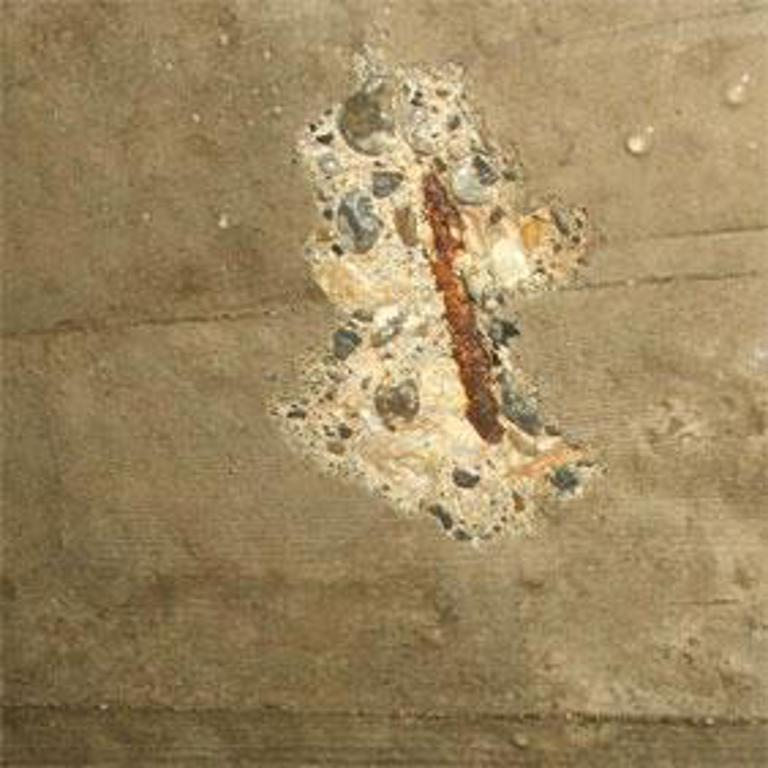exposed_rebar: (423, 171, 504, 443)
spalling: (274, 51, 598, 539)
